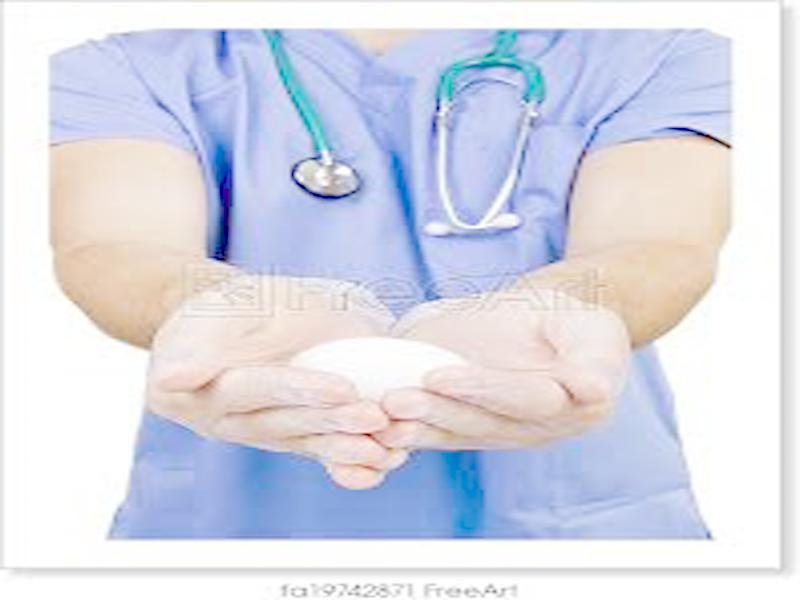Eggs: (295, 336, 469, 405)
